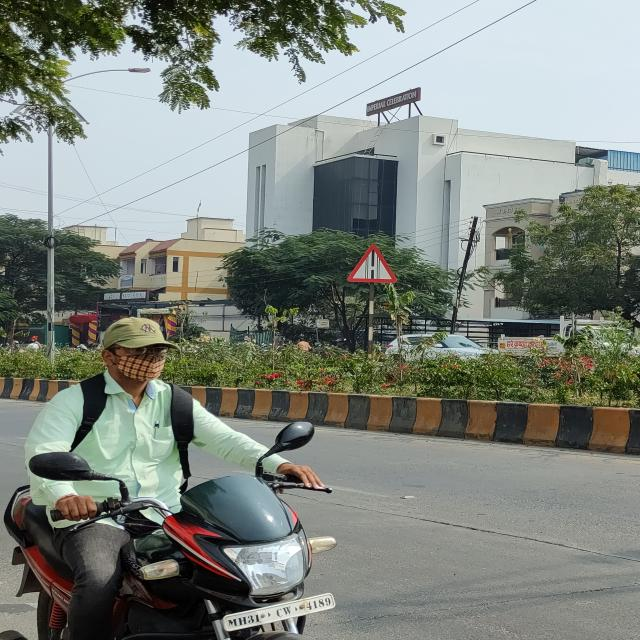ferry: (346, 244, 399, 284)
